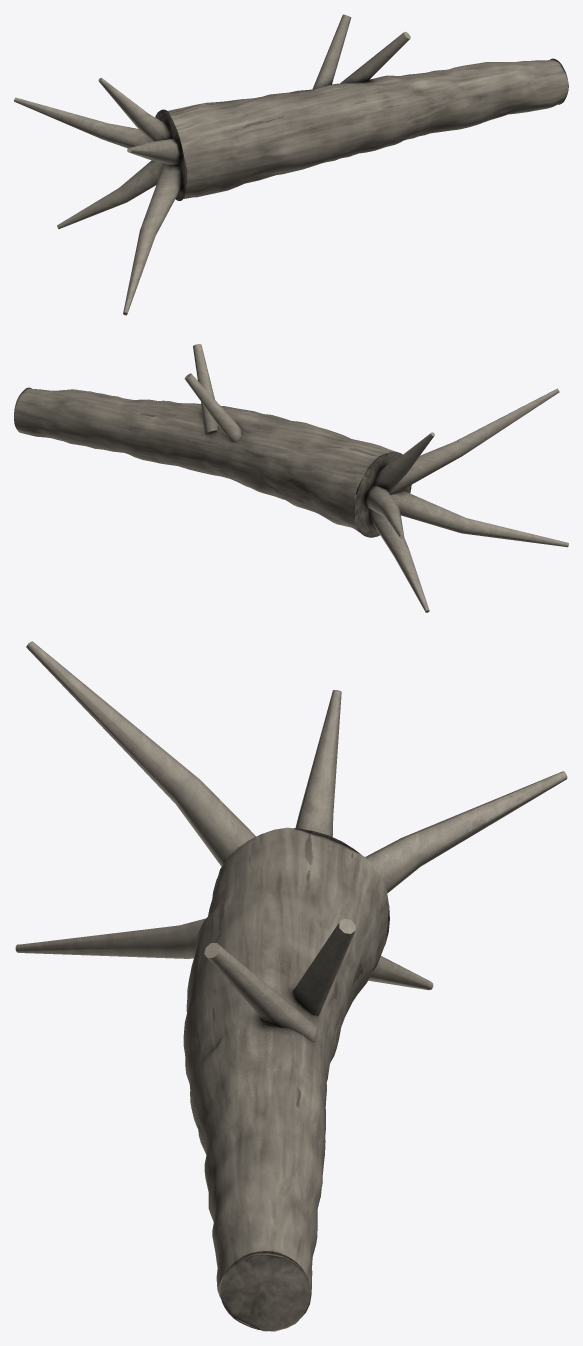
The model's file is costa_tronco_b.glb.
3 renders of one model, top to bottom at view 1: azimuth 30°, elevation 25°; view 2: azimuth 150°, elevation 25°; view 3: azimuth 270°, elevation 25°, orthographic. The views are drawn at different scales.
Parts seen in each view (by area): view 1: costa_tronco_b_tronco; view 2: costa_tronco_b_tronco; view 3: costa_tronco_b_tronco.
Part boxes in pixels (<box>): costa_tronco_b_tronco: <box>14,14,568,315</box>; costa_tronco_b_tronco: <box>14,344,568,612</box>; costa_tronco_b_tronco: <box>15,641,567,1331</box>.
Size of the model in its own units: 3.69 by 1.18 by 1.83.
Materials: 1 (1 with a texture image).
